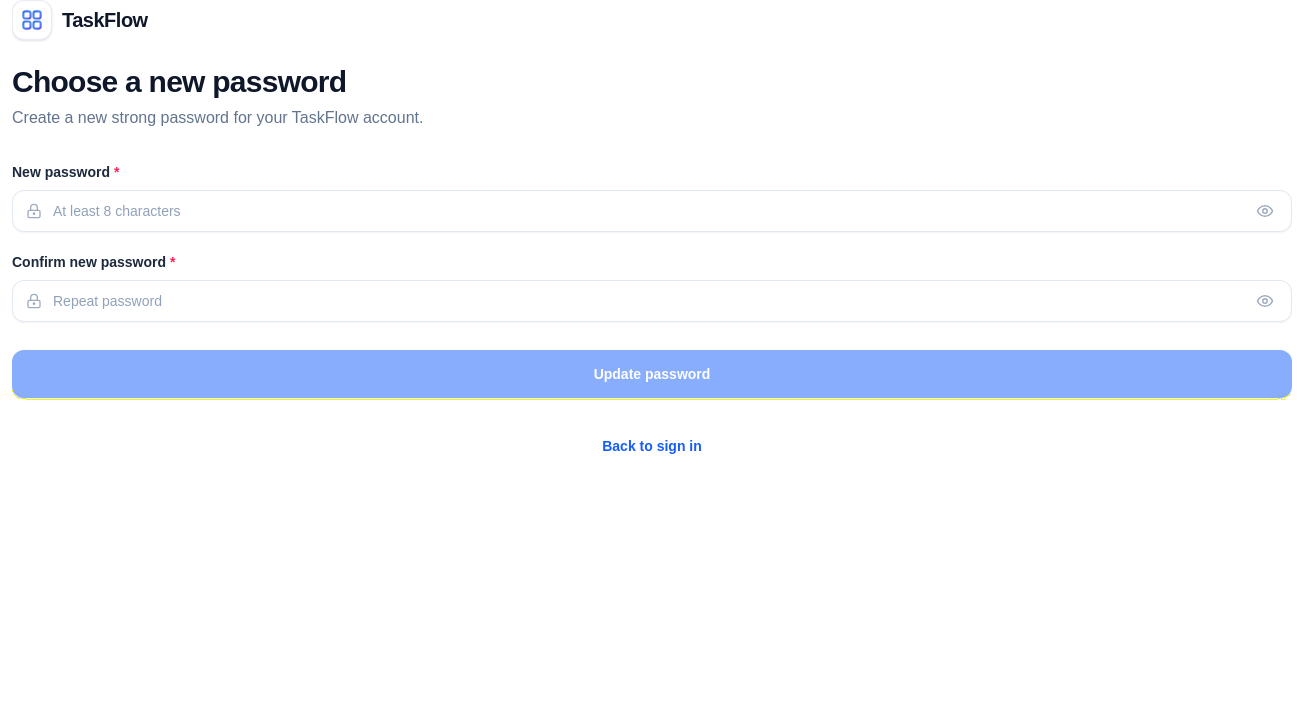
Scenario: ResetPasswordForm Component › handles submission when token is somehow missing inside handleFormSubmit
Type "NewStrongPassword@123" into the password field with placeholder "At least 8 characters" at [652, 211], box top-left (12, 190), bottom-right (1292, 232)
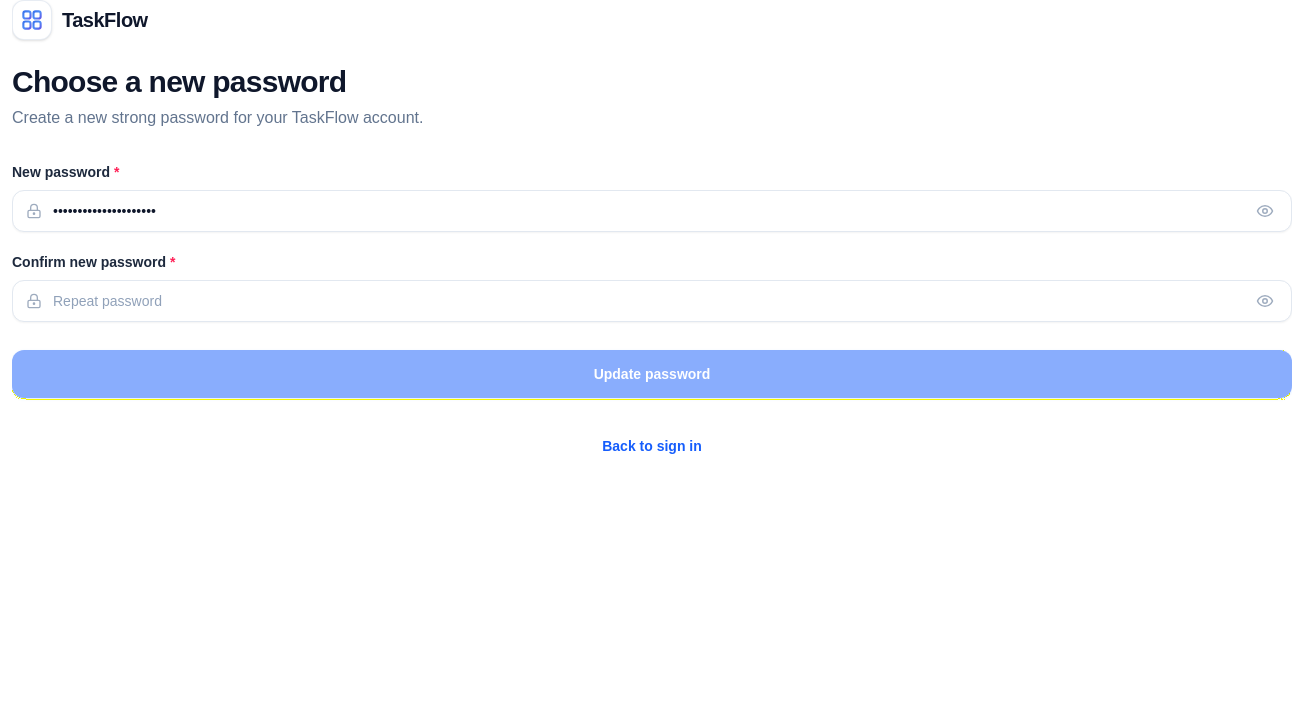
Type "NewStrongPassword@123" into the password field with placeholder "Repeat password" at [652, 301], box top-left (12, 280), bottom-right (1292, 322)
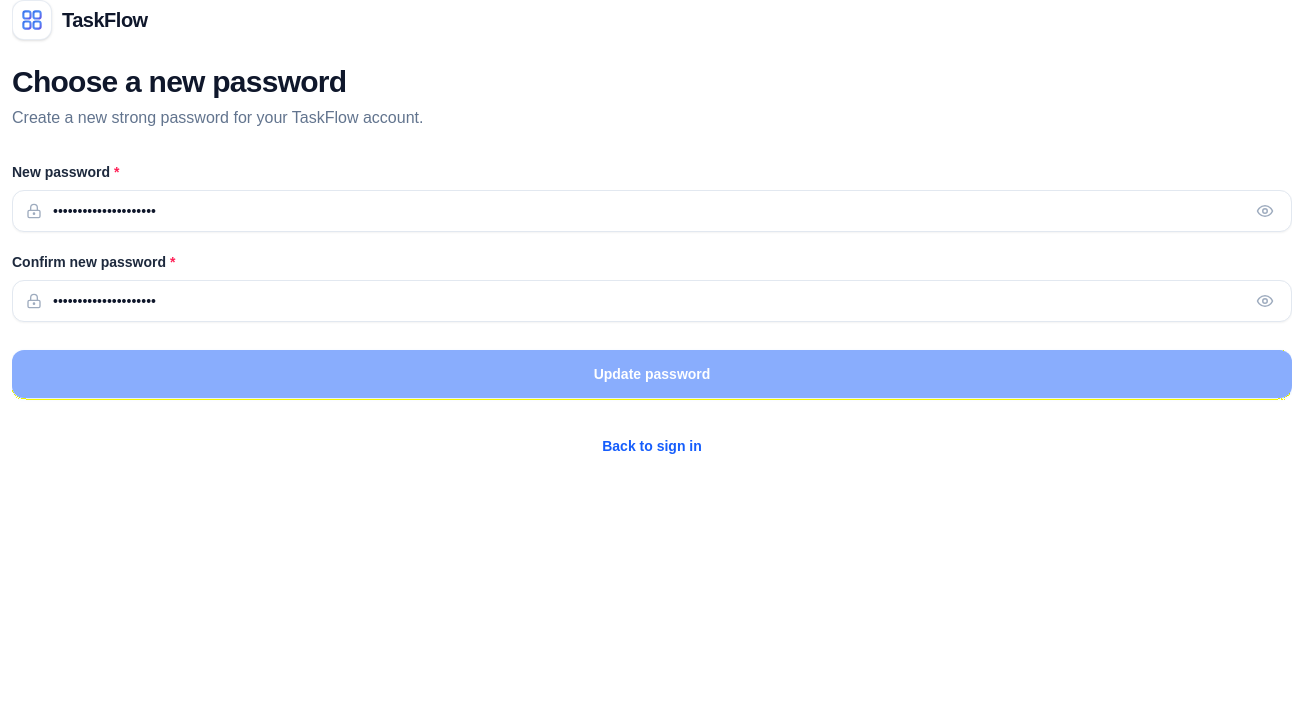
Submit the form with placeholder "At least 8 characters", box top-left (12, 162), bottom-right (1292, 458)
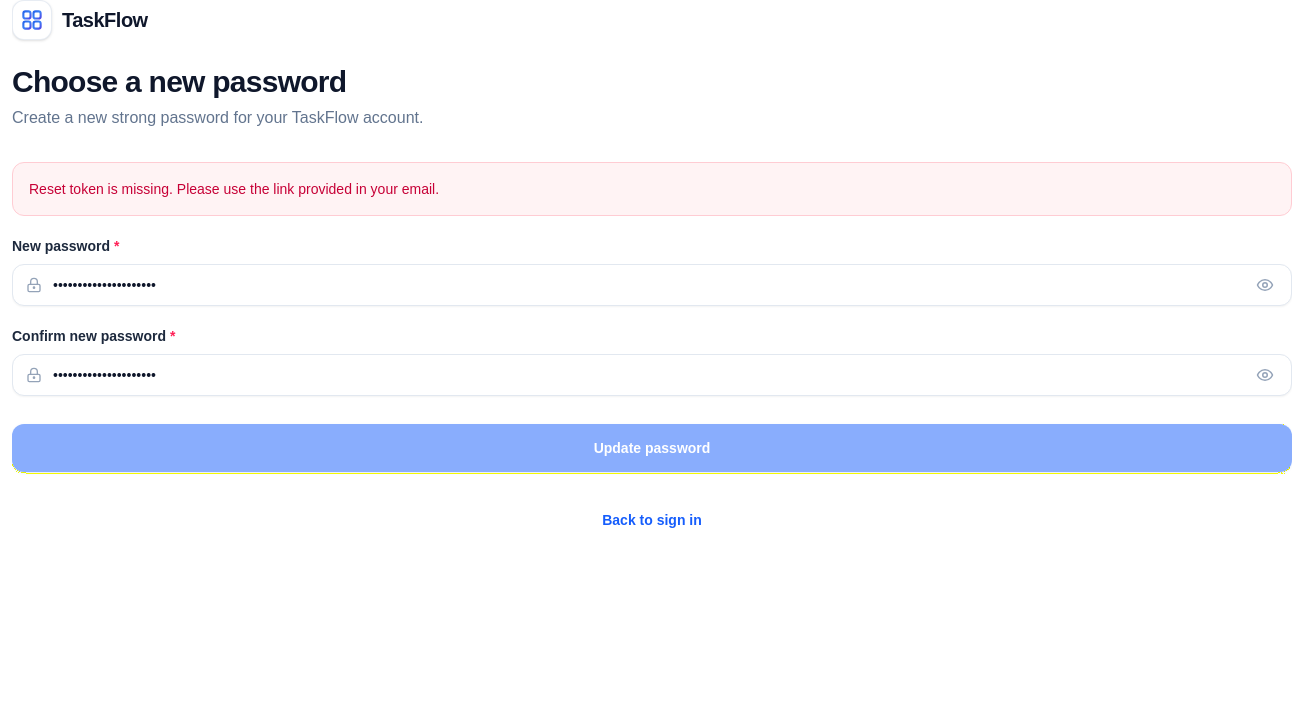
Expected: the message reads "Reset token is missing. Please use the link provided in your email.", top-left (29, 181), bottom-right (439, 197)
